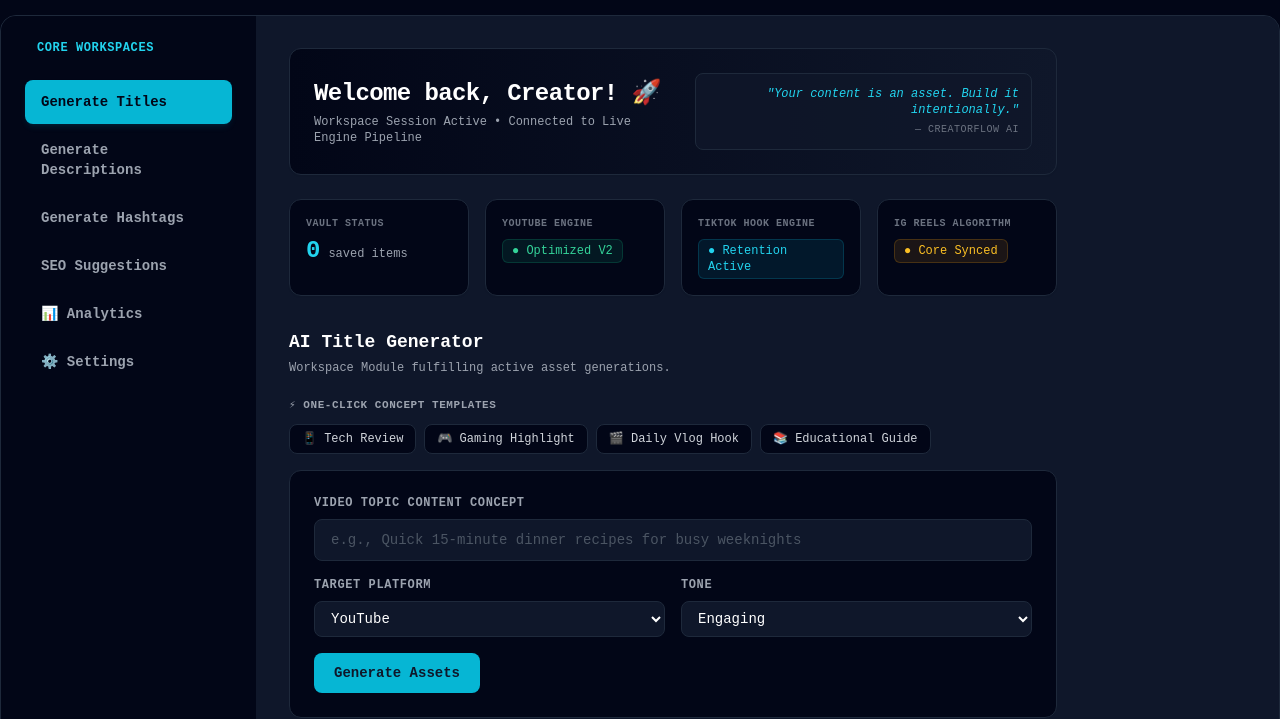
Test: AIToolStudio — AI generation (US-03 to US-06) › shows a connection error when the backend cannot be reached
In the field with placeholder "e.g., Quick 15-minute dinner recipes for busy weeknights": x=673, y=540 [314,519,1032,561], type "x"
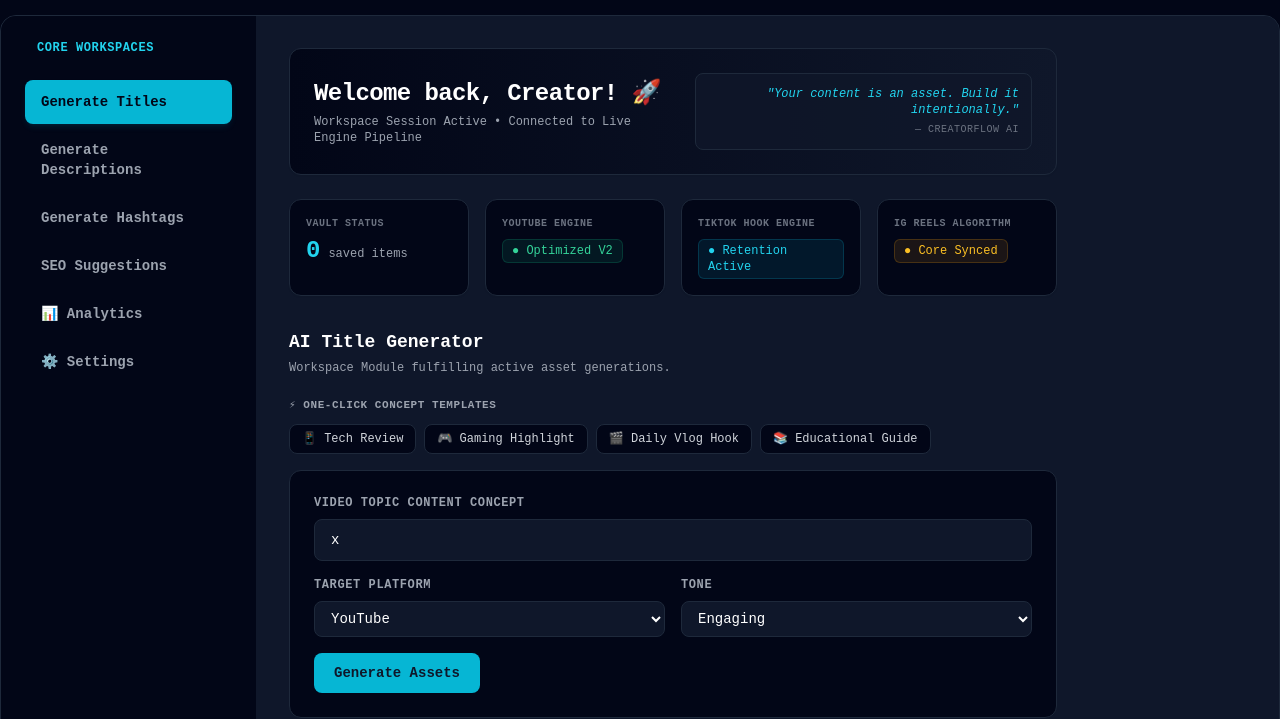
Click the button "Generate Assets": x=397, y=673 [314,653,480,693]
(page scrolled)
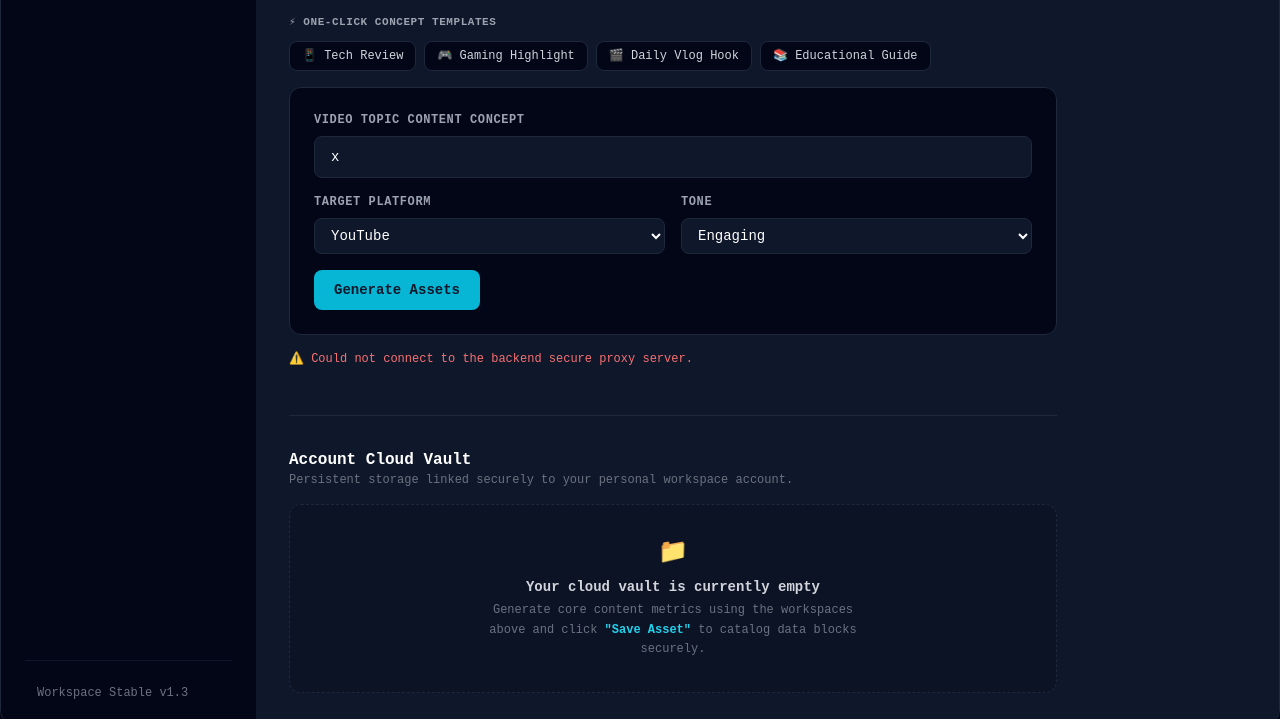
Now the text "⚠️ Could not connect to the backend secure proxy server." is shown, box [289,352,693,366]
